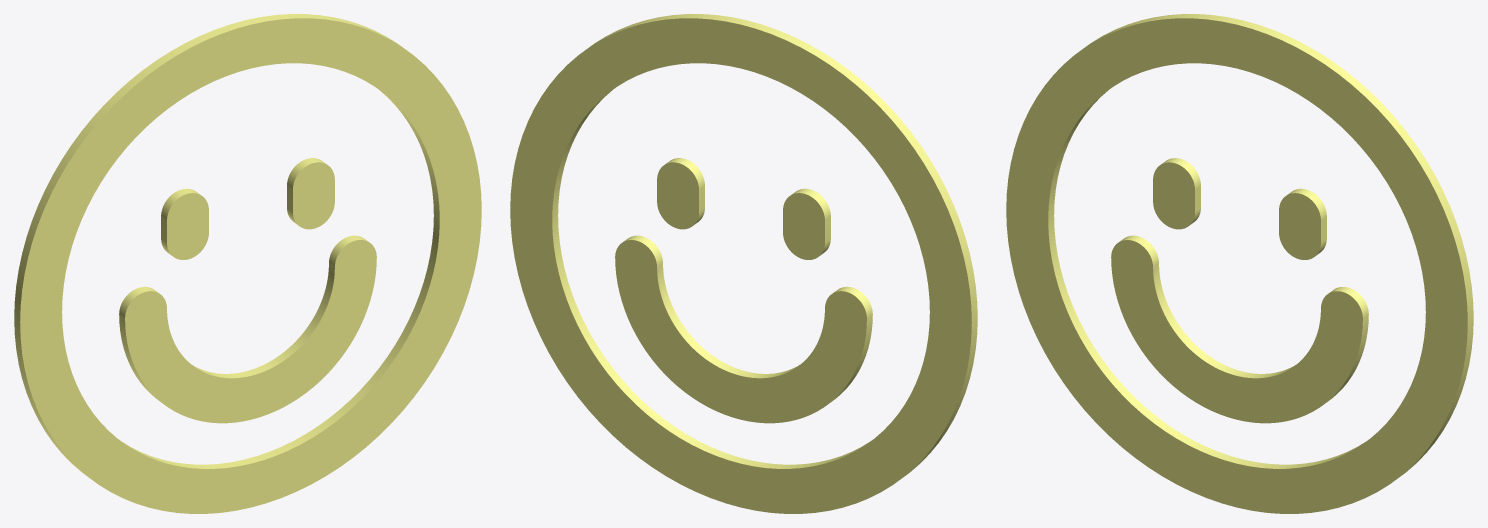
The picture shows the model from 3 angles, left to right: view 1: azimuth 30°, elevation 25°; view 2: azimuth 150°, elevation 25°; view 3: azimuth 330°, elevation 25°; orthographic projection.
Visible parts, largest first — view 1: Curve; view 2: Curve; view 3: Curve.
Boxes of the visible parts, bbox=[...] form: Curve: bbox=[14, 14, 481, 513]; Curve: bbox=[510, 14, 977, 513]; Curve: bbox=[1006, 14, 1473, 513].
Bounding box in the file's own units: 5.08 × 5.07 × 0.1128.
